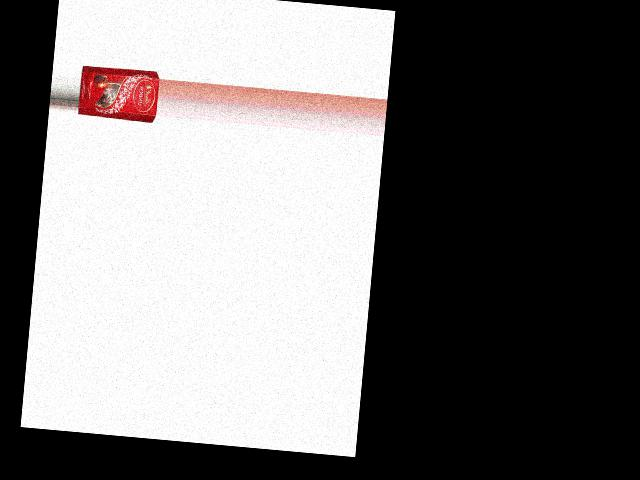chocolate: (76, 61, 160, 124)
